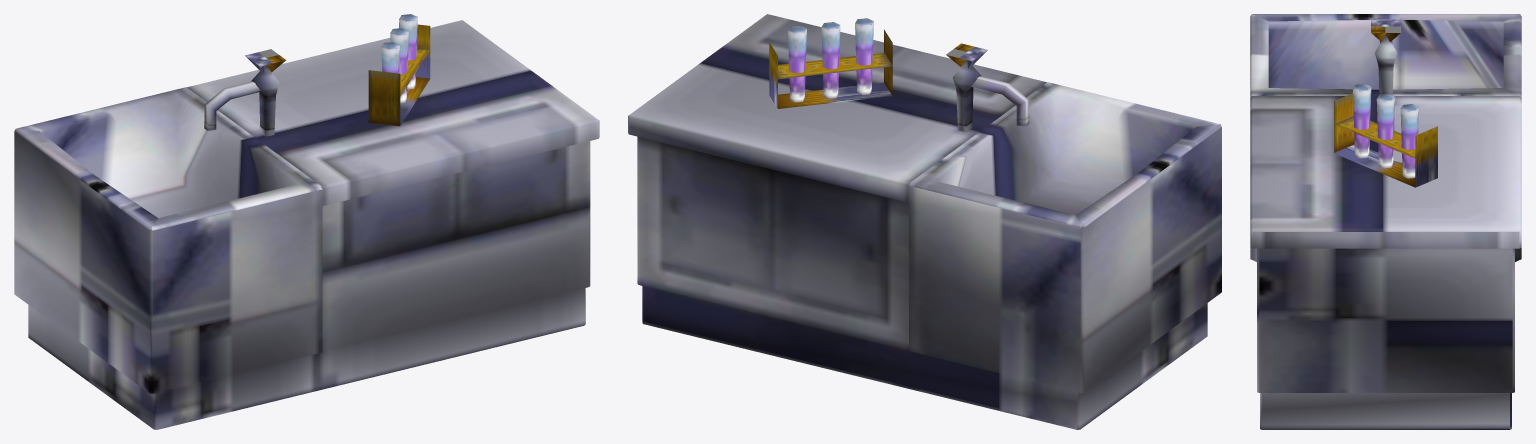
The model's file is int_sch_sciencetable.dae.
The picture shows the model from 3 angles, left to right: view 1: azimuth 30°, elevation 25°; view 2: azimuth 150°, elevation 25°; view 3: azimuth 270°, elevation 25°; orthographic projection. The views are drawn at different scales.
Parts seen in each view (by area): view 1: int_sch_sciencetable; view 2: int_sch_sciencetable; view 3: int_sch_sciencetable.
Boxes of the visible parts, <box> form: int_sch_sciencetable: <box>14,14,599,429</box>; int_sch_sciencetable: <box>628,14,1221,429</box>; int_sch_sciencetable: <box>1250,14,1521,429</box>.
Size of the model in its own units: 54.4 by 35.17 by 28.8.
Materials: 1 (1 with a texture image).
